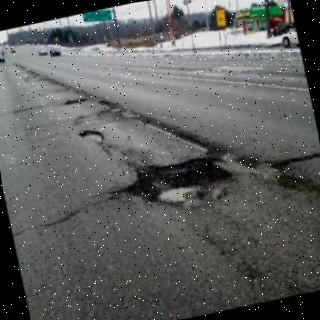pothole: (108, 158, 233, 202)
